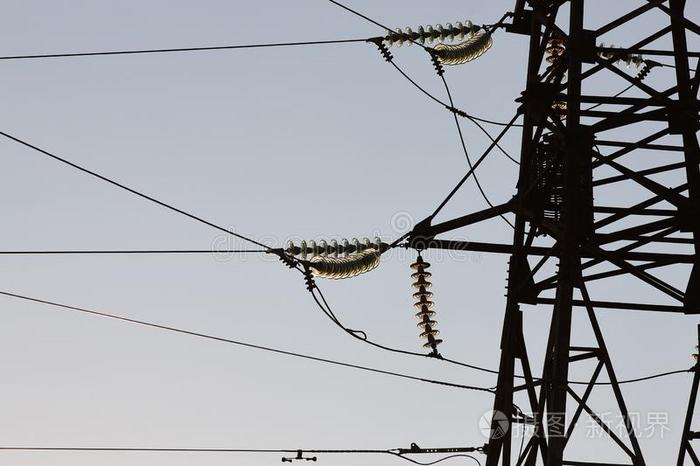insulator: (288, 237, 385, 283), (408, 259, 444, 350), (388, 18, 476, 46), (437, 32, 492, 64)
